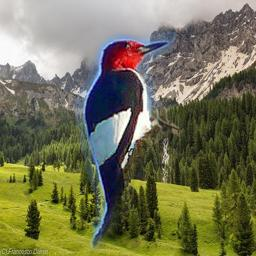Woodpecker: (65, 25, 180, 249)
